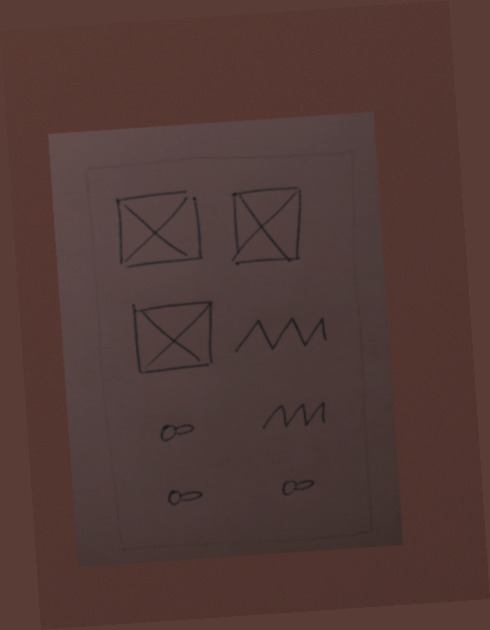image: (105, 184, 211, 274), (121, 295, 226, 382), (224, 179, 311, 271)
switch: (159, 475, 215, 519), (150, 413, 204, 454), (275, 469, 321, 503)
text: (229, 306, 332, 361), (250, 391, 333, 438)
